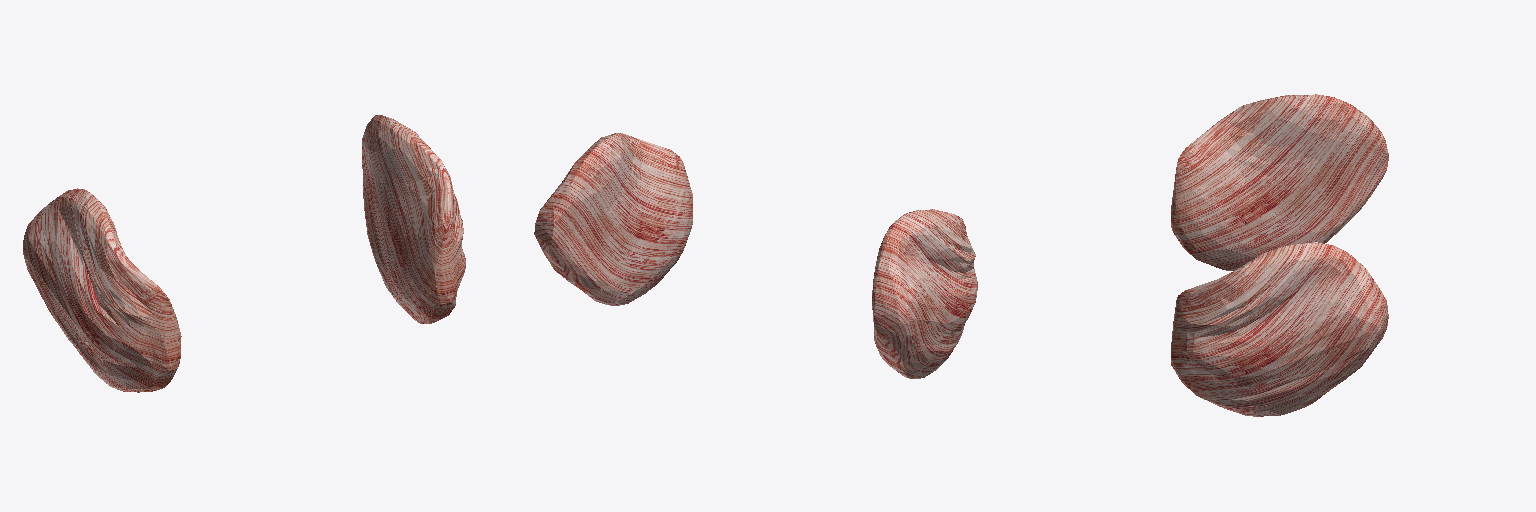
3 renders of one model, left to right at view 1: azimuth 30°, elevation 25°; view 2: azimuth 150°, elevation 25°; view 3: azimuth 270°, elevation 25°, orthographic.
Parts seen in each view (by area): view 1: Musculos_Cabeza_1:Buccinator:Buccinator; view 2: Musculos_Cabeza_1:Buccinator:Buccinator; view 3: Musculos_Cabeza_1:Buccinator:Buccinator.
Boxes of the visible parts, x1,y1,x2,y2 form: Musculos_Cabeza_1:Buccinator:Buccinator: [23, 115, 465, 392]; Musculos_Cabeza_1:Buccinator:Buccinator: [534, 133, 977, 378]; Musculos_Cabeza_1:Buccinator:Buccinator: [1171, 94, 1388, 416].
Size of the model in its own units: 0.3138 by 0.1403 by 0.1586.
Materials: 1 (1 with a texture image).